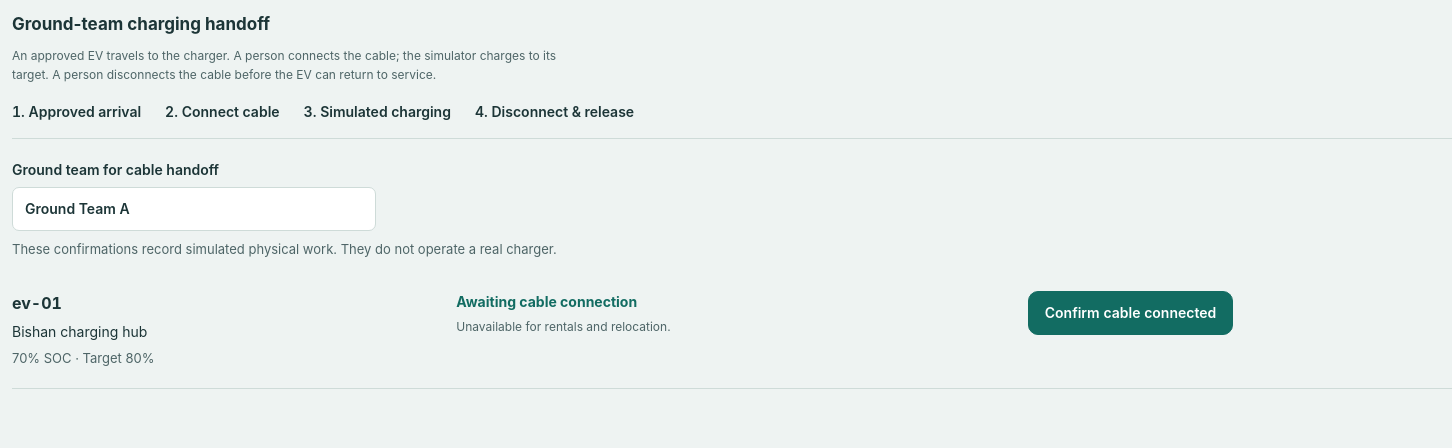
Test: ground-team charging handoff › retries a lost response with the same request and reports recovery inline
Later steps or results of the test are not shown.
Click the button with aria-label "Confirm cable connected for ev-01".
click(1131, 313)  # box [1028,291,1233,335]
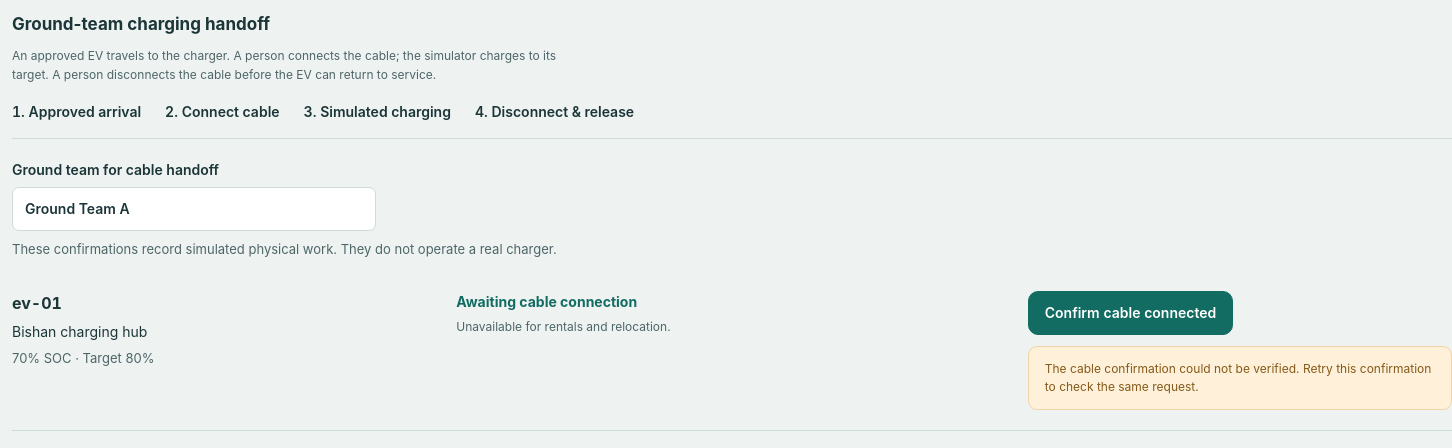
Expected: the message shows "Retry this confirmation", [1045,361,1431,394]
